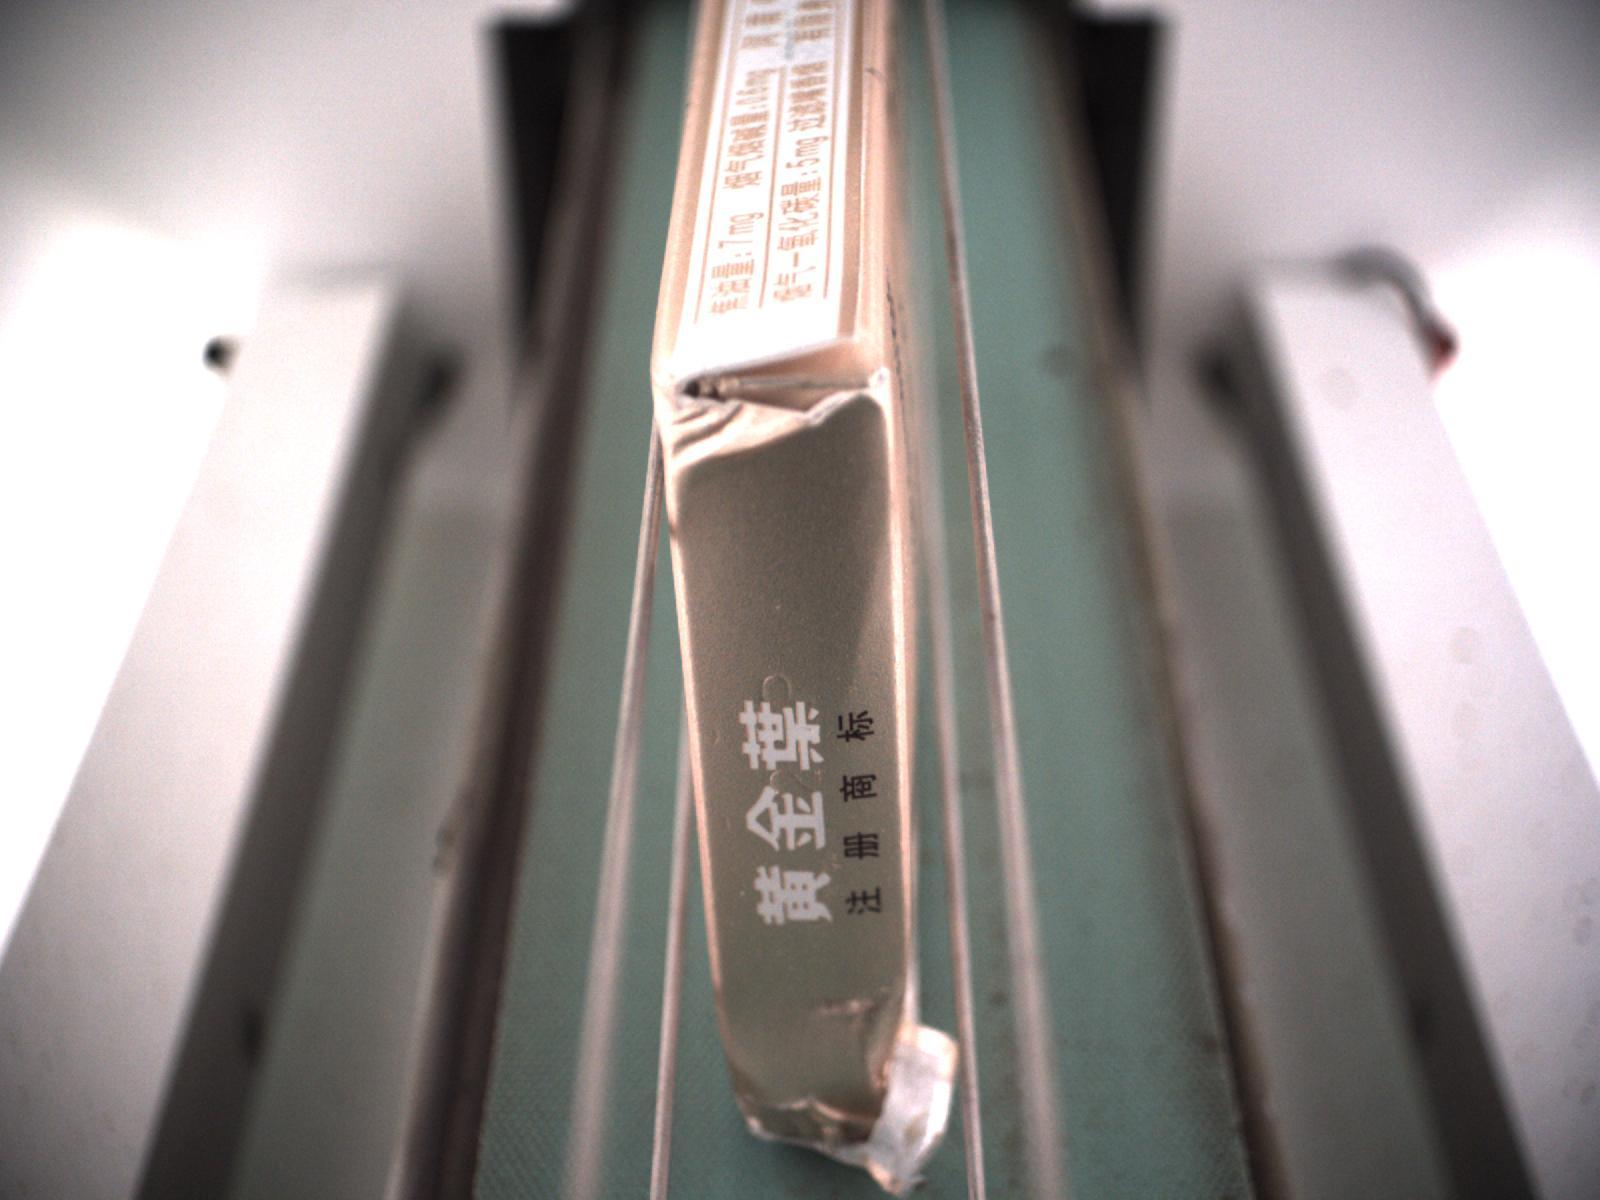cornerBreak: (650, 332, 896, 473)
